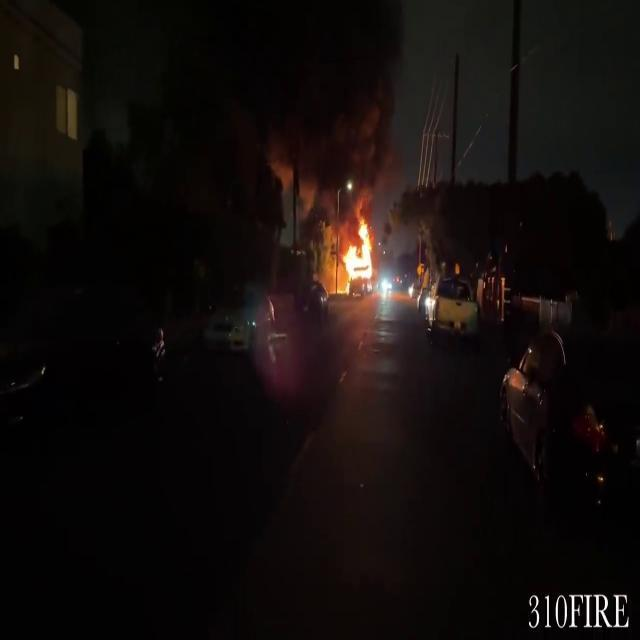Fire: (332, 220, 380, 298)
